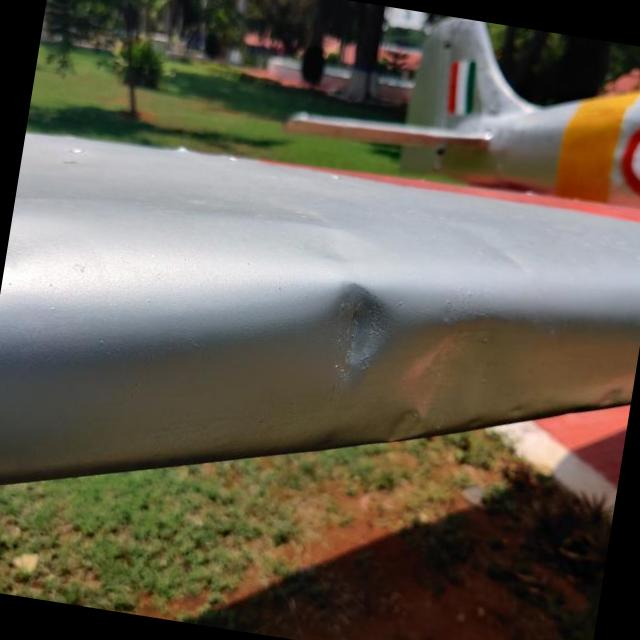Dent: (378, 302, 517, 441), (331, 285, 392, 380)
